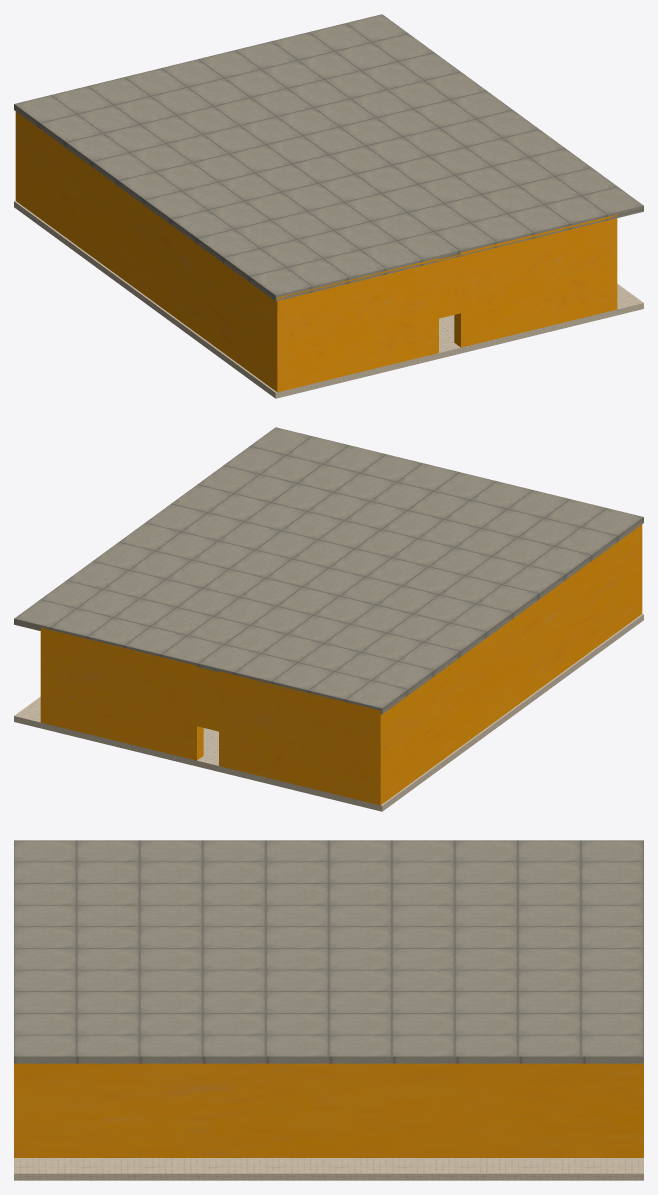
The model's file is THECOOLESTGROCERMODEL.fbx.
The picture shows the model from 3 angles, top to bottom: view 1: azimuth 30°, elevation 25°; view 2: azimuth 150°, elevation 25°; view 3: azimuth 270°, elevation 25°; orthographic projection. The views are drawn at different scales.
Visible parts, largest first — view 1: Floor2, SM_Cube20, SM_Cube25, SM_Cube19, Floor, SM_Cube26, SM_Cube17; view 2: Floor2, SM_Cube20, SM_Cube18, SM_Cube23, Floor, SM_Cube24, SM_Cube17; view 3: Floor2, SM_Cube17, Floor.
Boxes of the visible parts, x1,y1,x2,y2 form: Floor2: (14, 14, 643, 301); SM_Cube20: (15, 111, 288, 392); SM_Cube25: (454, 216, 610, 347); SM_Cube19: (288, 258, 438, 389); Floor: (14, 201, 643, 398); SM_Cube26: (438, 254, 460, 318); SM_Cube17: (610, 215, 617, 310); Floor2: (14, 427, 643, 714); SM_Cube20: (369, 524, 642, 805); SM_Cube18: (219, 671, 369, 802); SM_Cube23: (47, 630, 203, 760); Floor: (14, 614, 643, 811); SM_Cube24: (197, 667, 219, 731); SM_Cube17: (40, 628, 51, 724); Floor2: (14, 840, 643, 1063); SM_Cube17: (14, 1063, 643, 1157); Floor: (14, 1158, 643, 1180).
Size of what is drawn, in the model's own units: 3250 by 4000 by 870.
3 materials, 3 textured.
